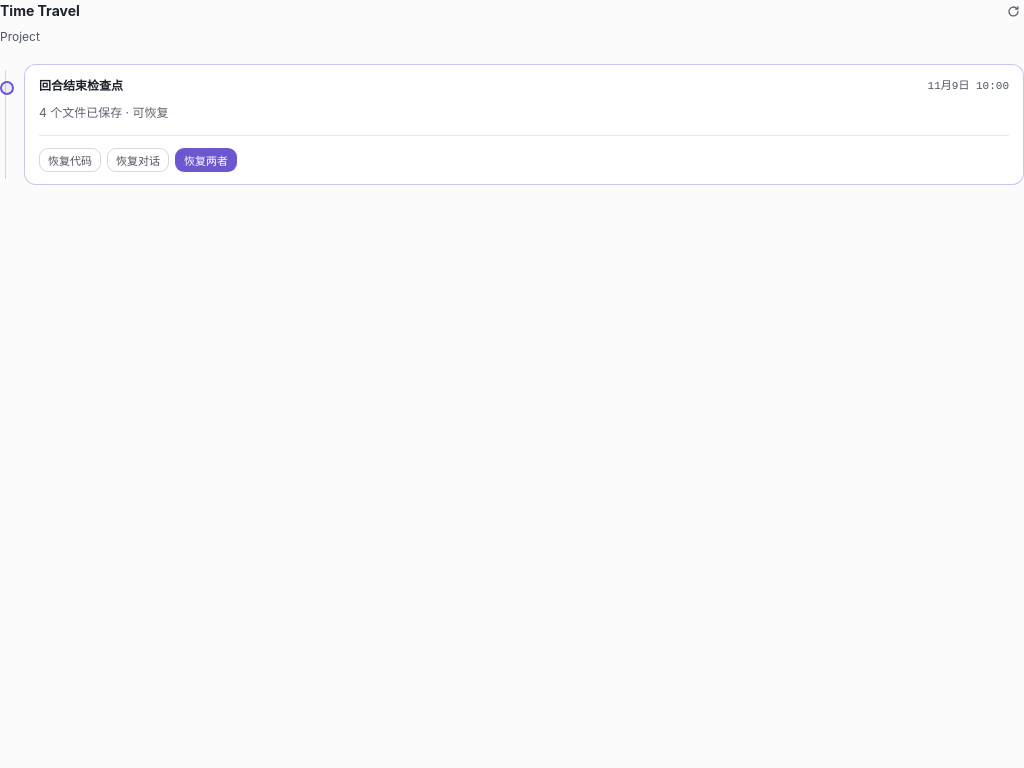
previews affected files before sending the confirmed restore and reports partial failures
Click the button "恢复两者" at coordinates (206, 160), box x1=175 y1=148 x2=237 y2=172
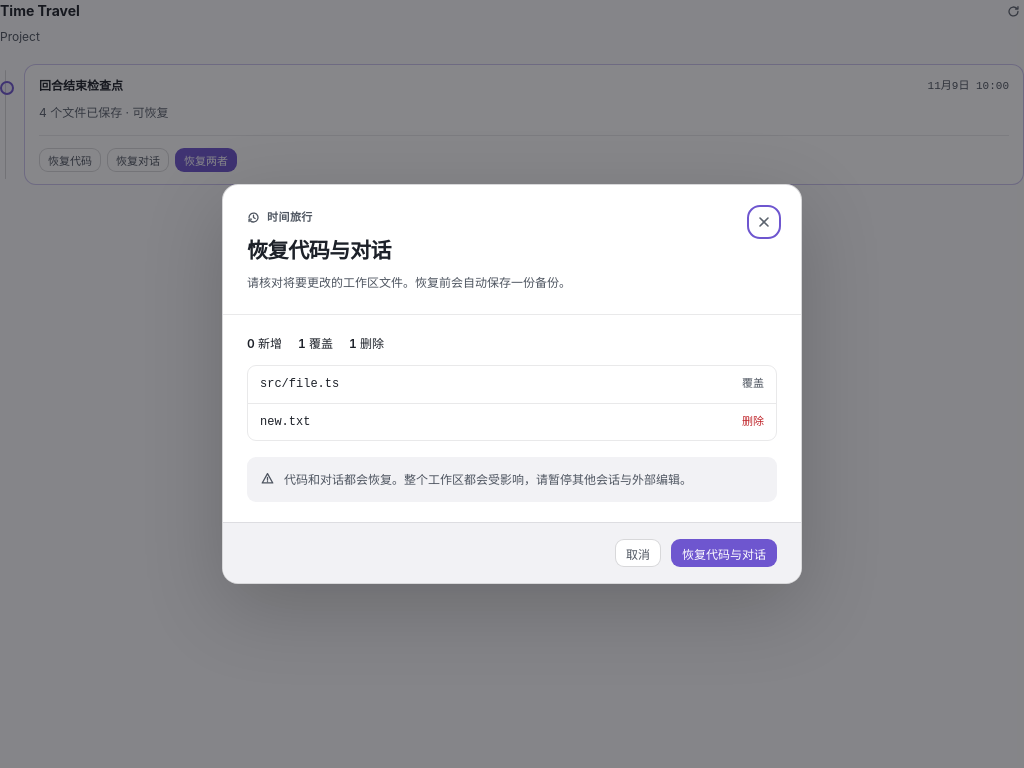
Expected: the dialog shows "src/file.ts", x1=260 y1=377 x2=339 y2=391
Expected: the dialog shows "new.txt", x1=260 y1=415 x2=310 y2=429
Click the button "恢复代码与对话" at coordinates (724, 553), box x1=671 y1=539 x2=777 y2=567
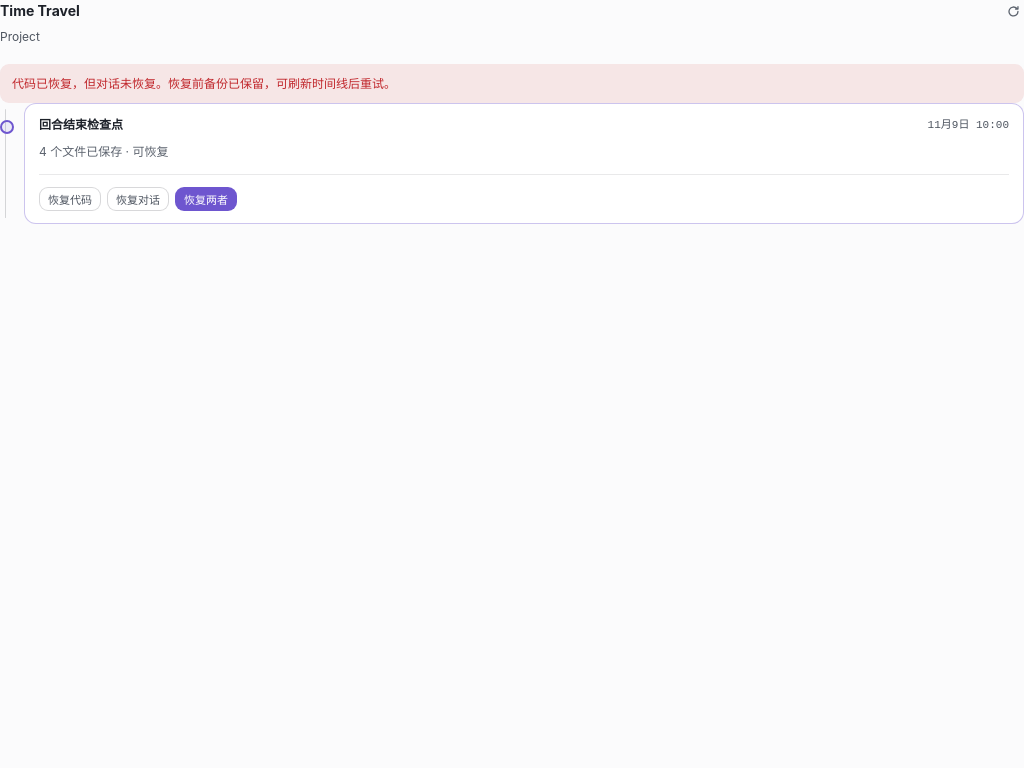
Expected: the message shows "代码已恢复，但对话未恢复", x1=12 y1=76 x2=396 y2=91
